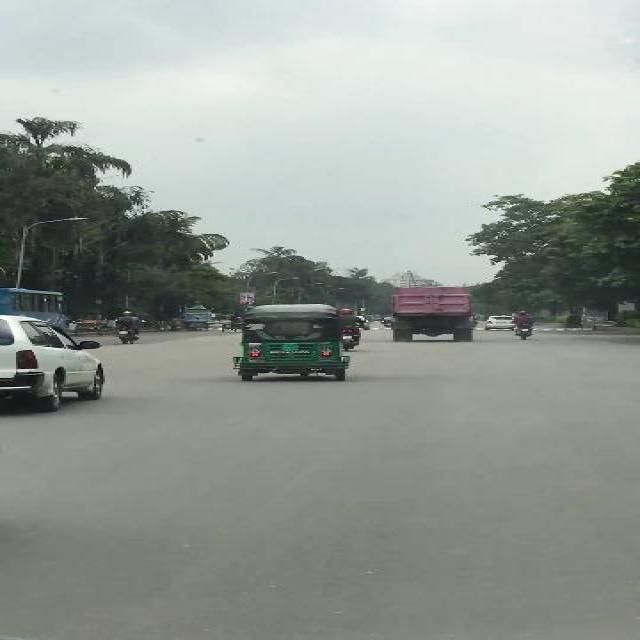car: (482, 314, 514, 330)
motorbike: (338, 309, 366, 351), (111, 310, 145, 344), (512, 311, 533, 341)
rickshaw: (70, 312, 104, 336), (562, 314, 583, 332)
suv: (0, 314, 107, 412)
three wheelers -CNG-: (230, 304, 350, 382)
